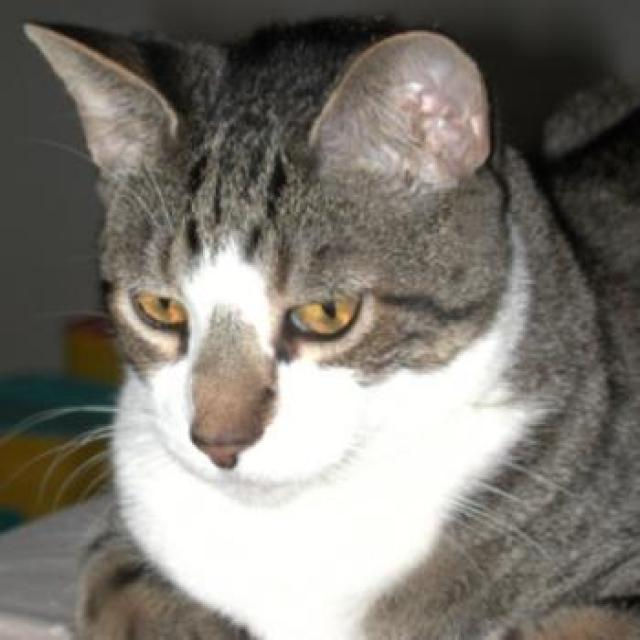cats: (19, 18, 640, 640)
